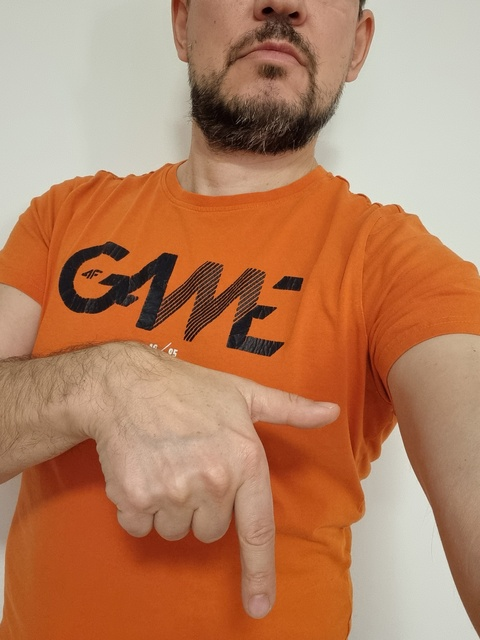GestDown: (118, 379, 340, 620)
